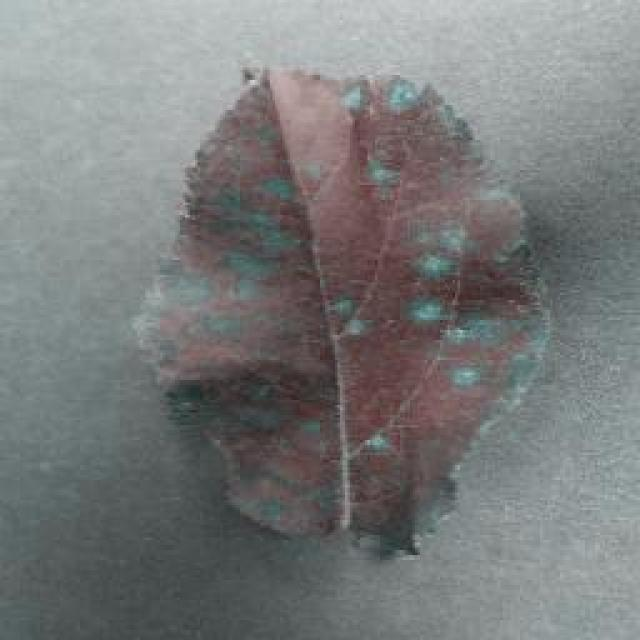apple cedar apple rust: (137, 60, 555, 552)
